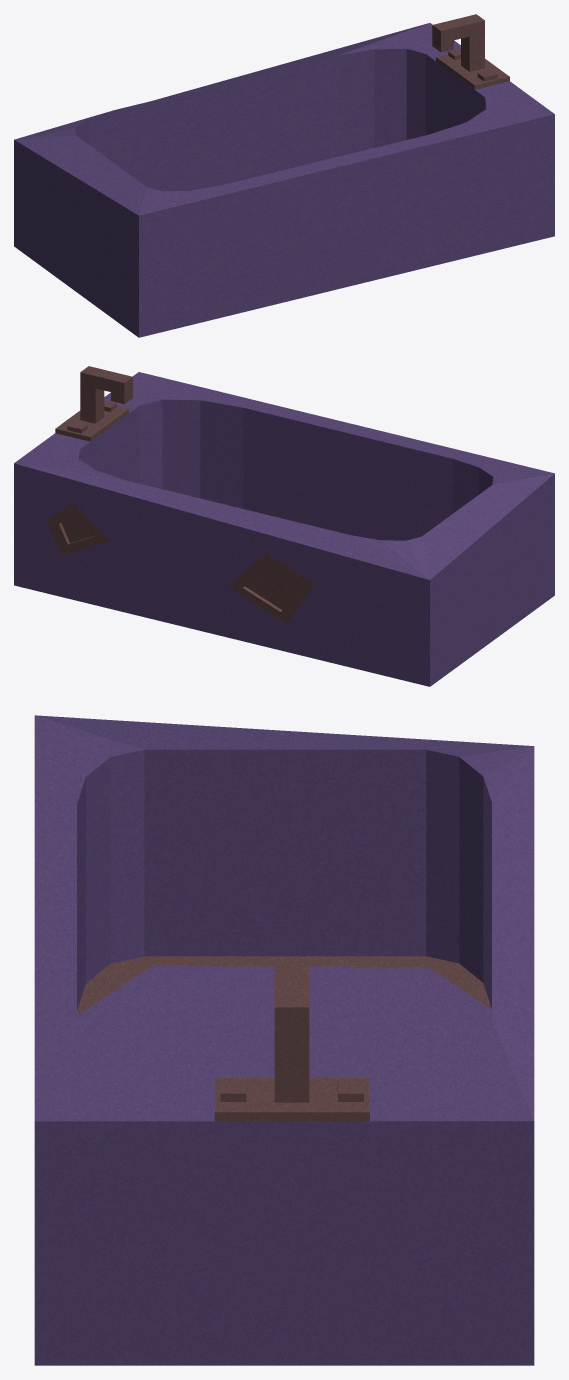
The model's file is CLBath.fbx.
3 renders of one model, top to bottom at view 1: azimuth 30°, elevation 25°; view 2: azimuth 150°, elevation 25°; view 3: azimuth 270°, elevation 25°, orthographic. The views are drawn at different scales.
Parts seen in each view (by area): view 1: CorruptionLightBathtub; view 2: CorruptionLightBathtub; view 3: CorruptionLightBathtub.
Part boxes in pixels (x1,y1,x2,y2): CorruptionLightBathtub: [14, 14, 554, 337]; CorruptionLightBathtub: [14, 366, 554, 686]; CorruptionLightBathtub: [34, 715, 534, 1365].
Size of the model in its own units: 147 by 58.88 by 76.49.
